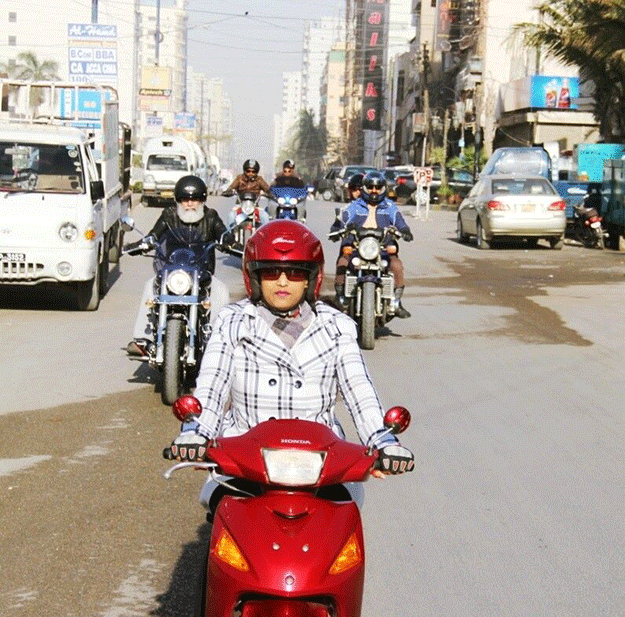with_helmet: (241, 222, 326, 307), (173, 175, 213, 203)
